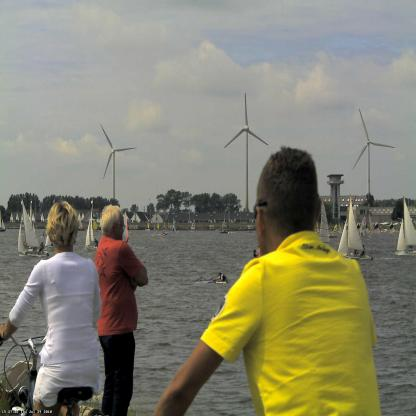other: (192, 238, 385, 404), (86, 230, 148, 341)
